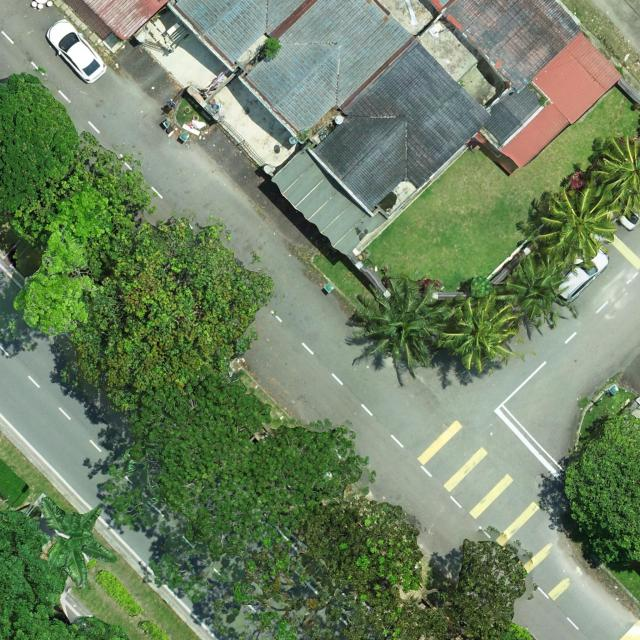Tree: (99, 373, 378, 614), (210, 497, 528, 640), (72, 215, 276, 414), (11, 130, 158, 336), (0, 509, 132, 640), (564, 415, 640, 570), (0, 70, 80, 214), (354, 274, 458, 368), (36, 494, 118, 592), (436, 292, 524, 374), (538, 185, 616, 272), (494, 252, 578, 328), (591, 134, 640, 214)
